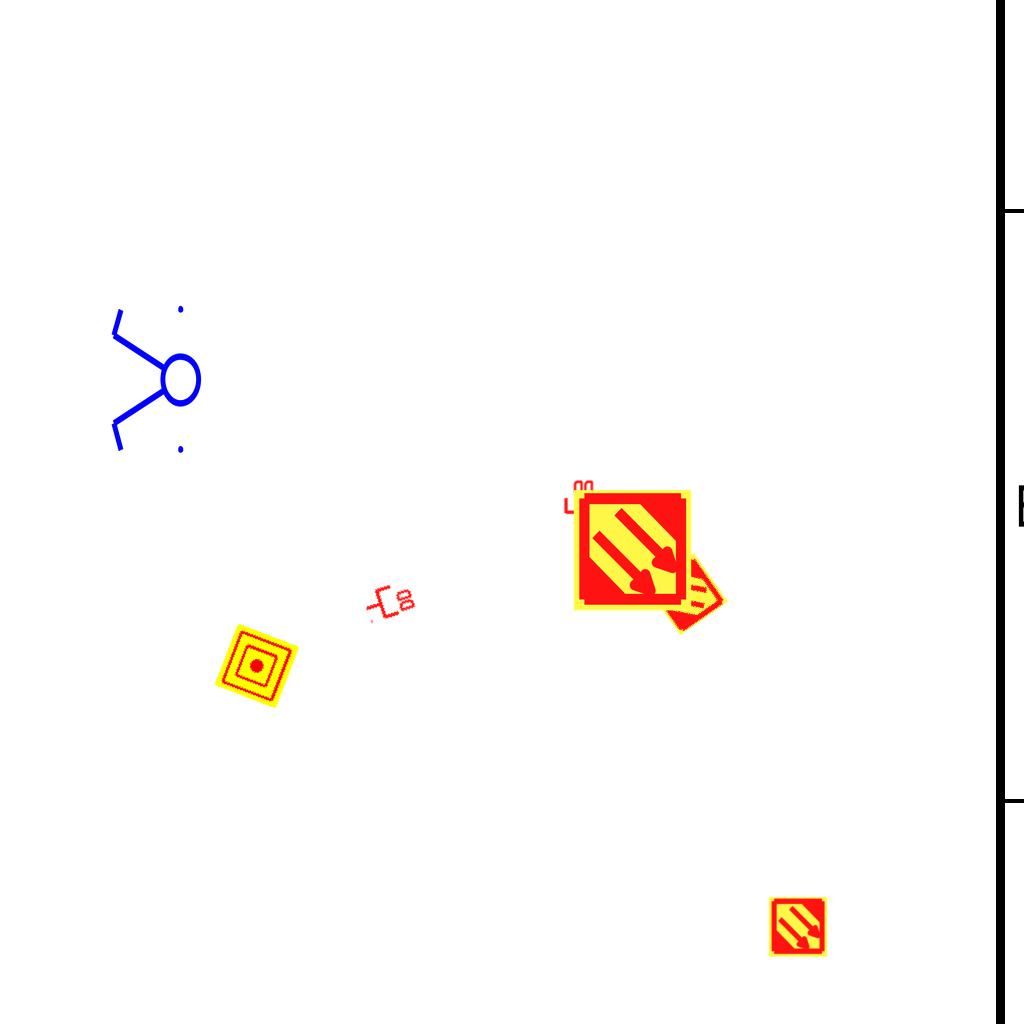ASR_Ansaugrauchmelder: (570, 488, 695, 613), (643, 550, 731, 638), (767, 896, 829, 958)
Datenanschluss_zweifach: (359, 576, 419, 625), (562, 478, 596, 529)
NAM-Nichtautomatischer_Melder: (214, 623, 300, 709)
Serienschalter: (107, 297, 203, 465)
